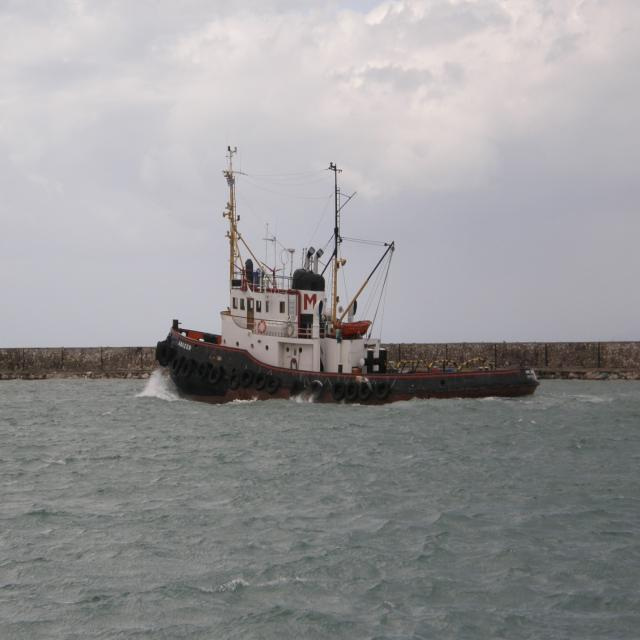fishing boat: (154, 191, 542, 401)
